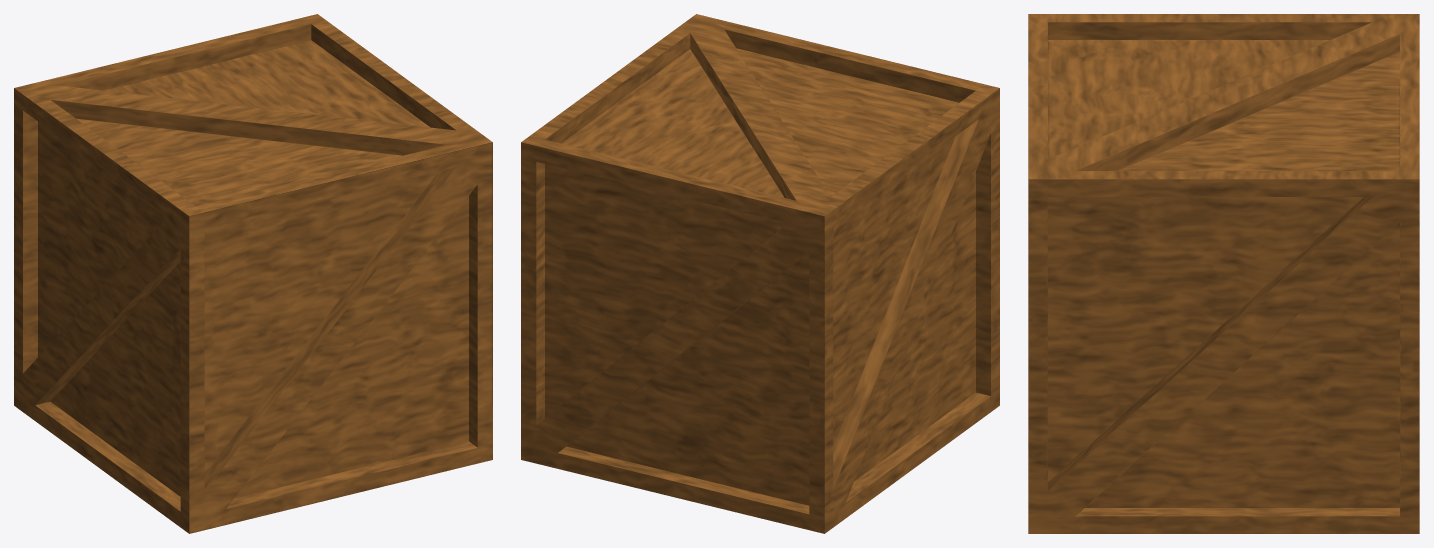
Rendered from CrateMesh.fbx.
3 views of the same model, side by side, from view 1: azimuth 30°, elevation 25°; view 2: azimuth 150°, elevation 25°; view 3: azimuth 270°, elevation 25° (orthographic). The views are drawn at different scales.
Parts seen in each view (by area): view 1: CrateMesh_Baked; view 2: CrateMesh_Baked; view 3: CrateMesh_Baked.
Boxes of the visible parts, bbox=[...] form: CrateMesh_Baked: bbox=[14, 14, 492, 533]; CrateMesh_Baked: bbox=[521, 14, 999, 533]; CrateMesh_Baked: bbox=[1028, 14, 1419, 533].
Bounding box in the file's own units: 100 × 100 × 100.
1 material, 1 textured.
